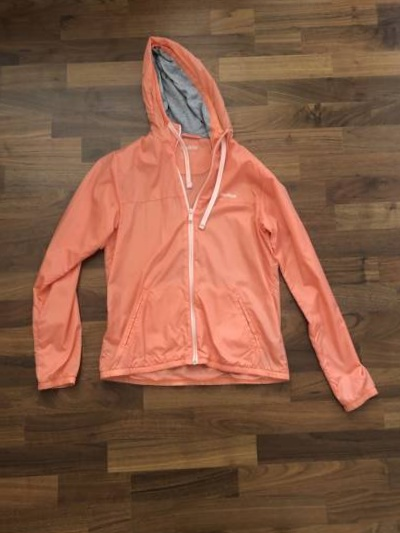Hoodie: (25, 41, 371, 450)
